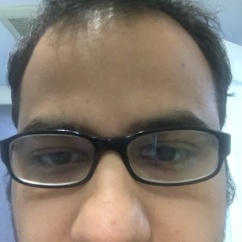glasses: (7, 121, 227, 191)
